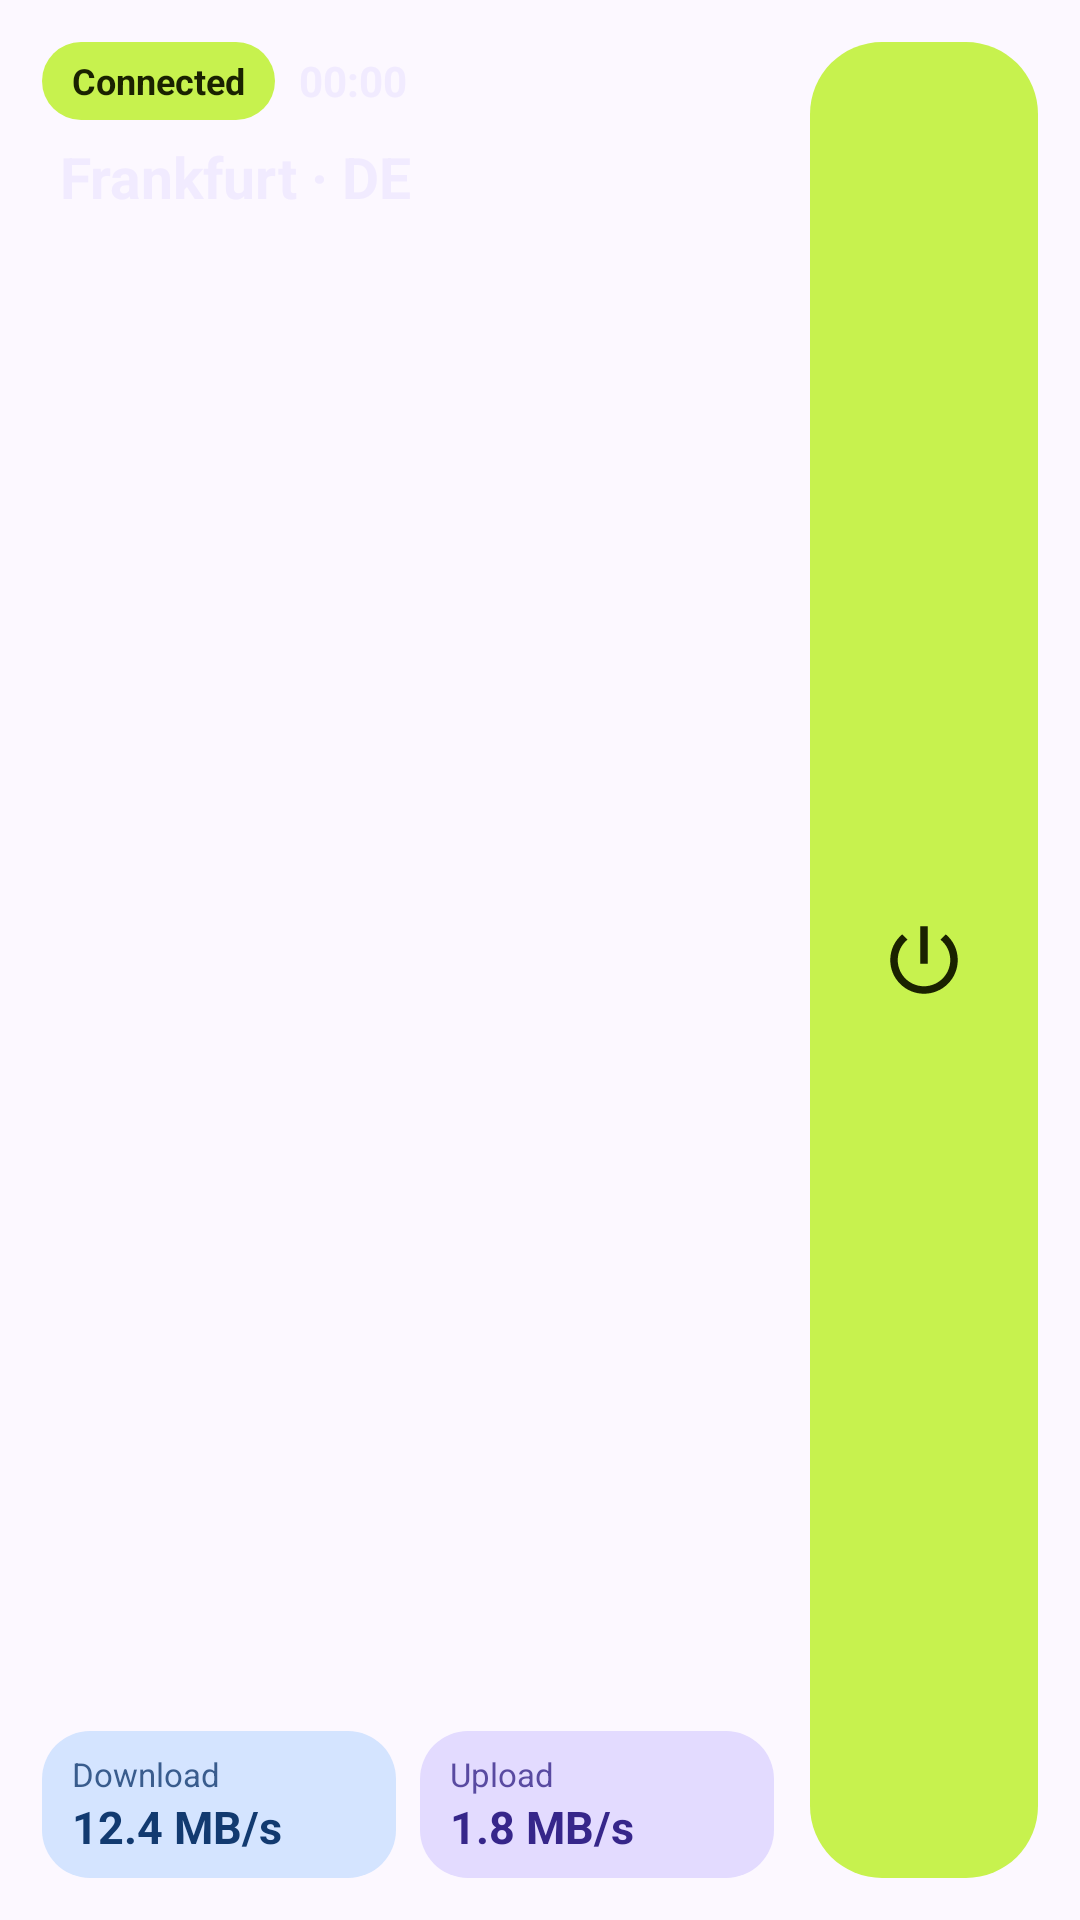

Icons on this 1080px x 1920px Android screen, each with the point to tap as [x,y]:
power: [924,960]
